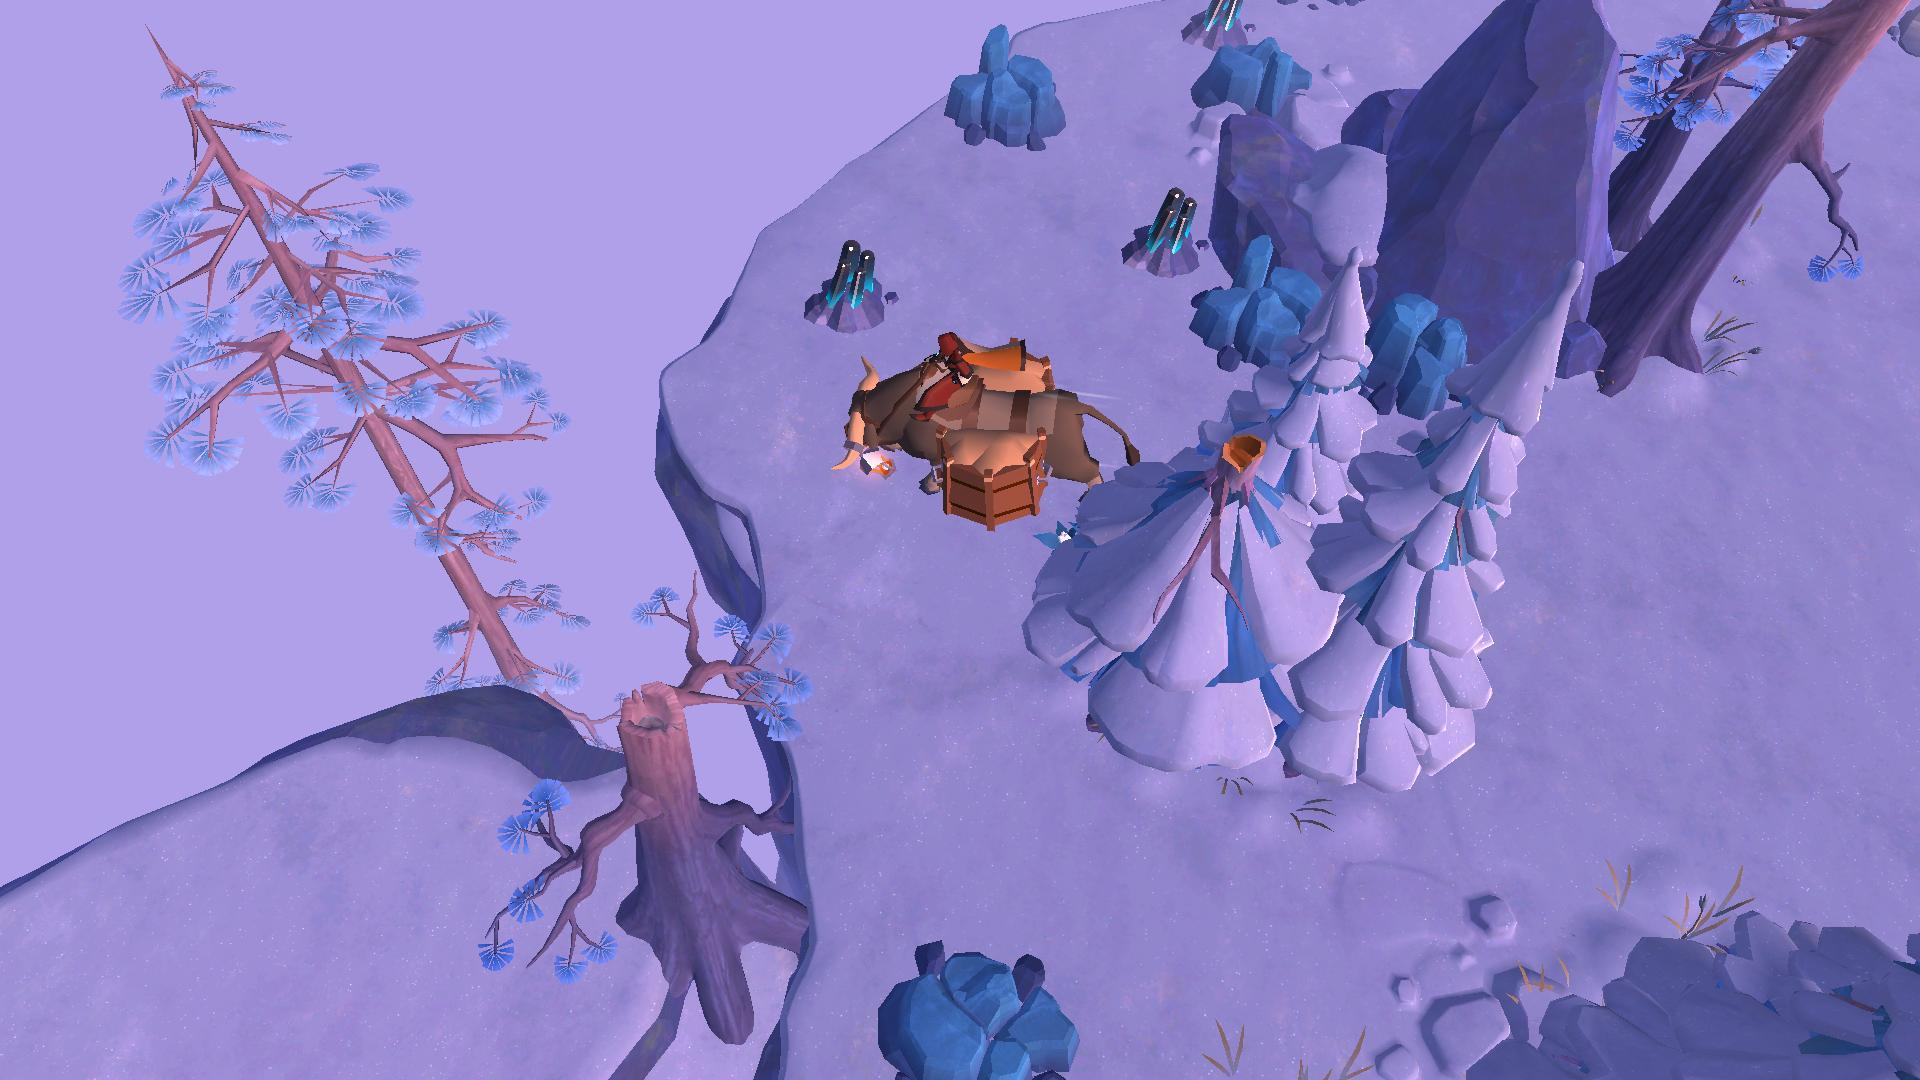ore_t4: (820, 232, 880, 314), (1138, 183, 1192, 253), (1199, 0, 1245, 46)
rock_t4: (869, 940, 1077, 1080), (1187, 239, 1323, 372), (945, 12, 1068, 156), (1360, 291, 1474, 421), (1197, 32, 1311, 119)
